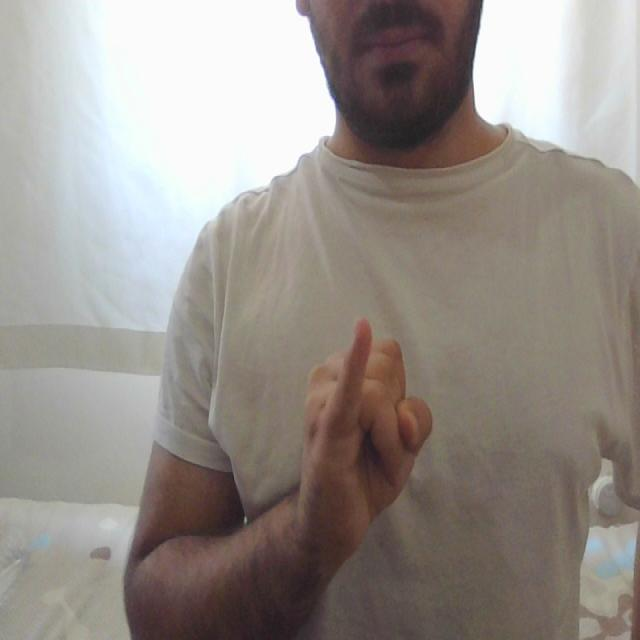kotu: (290, 312, 437, 508)
